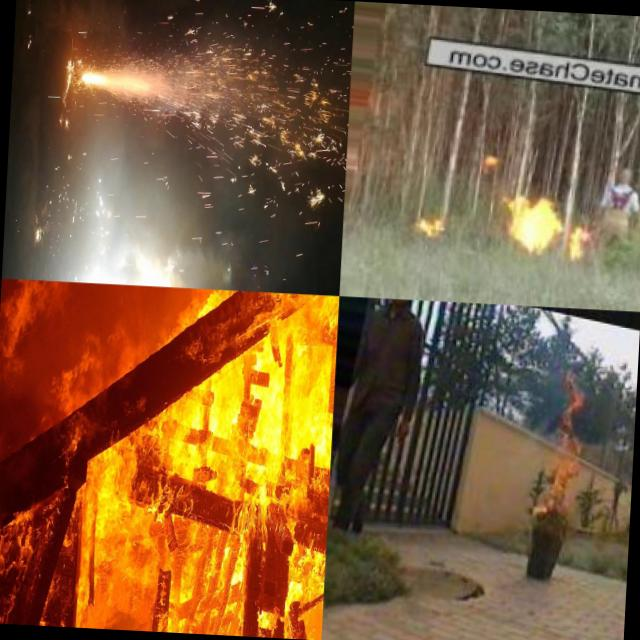fire: (0, 278, 339, 640), (544, 369, 596, 511), (500, 191, 586, 261), (206, 247, 240, 291), (418, 204, 449, 238)
